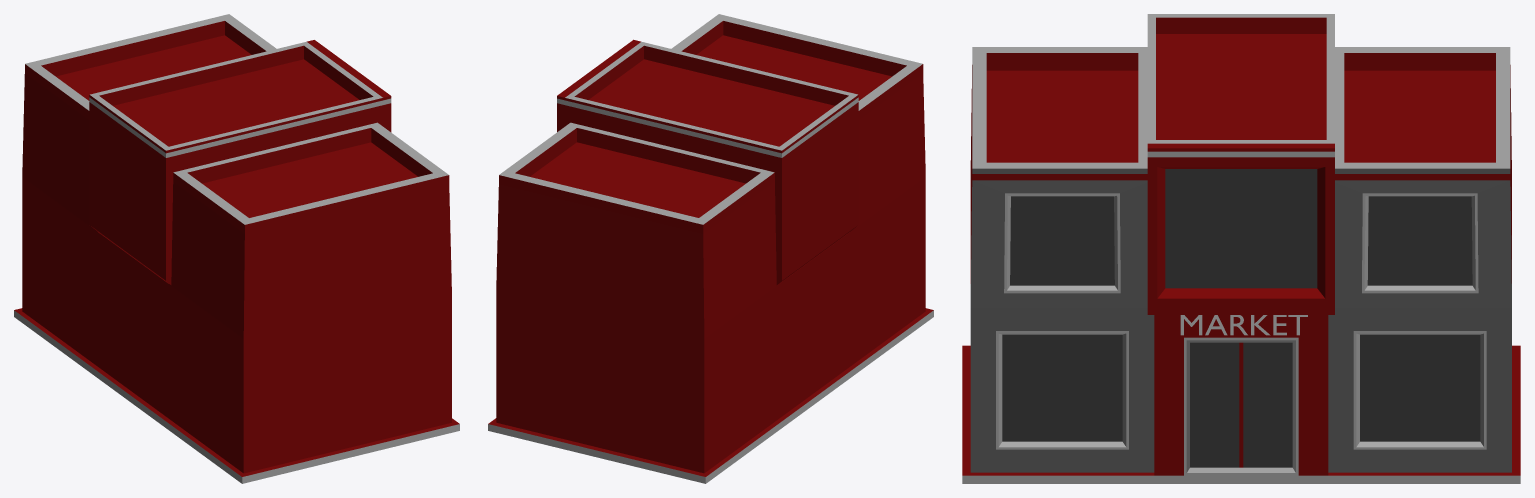
File: Market.001_BODY.002.glb
3 renders of one model, left to right at view 1: azimuth 30°, elevation 25°; view 2: azimuth 150°, elevation 25°; view 3: azimuth 270°, elevation 25°, orthographic. The views are drawn at different scales.
Visible parts, largest first — view 1: Market.001_BODY.002_0; view 2: Market.001_BODY.002_0; view 3: Market.001_BODY.002_0.
Part boxes in pixels (x1,y1,x2,y2): Market.001_BODY.002_0: (14, 14, 459, 483); Market.001_BODY.002_0: (488, 14, 933, 483); Market.001_BODY.002_0: (962, 14, 1520, 483).
Bounding box in the file's own units: 2.65 × 3.13 × 4.66.
1 material, 1 textured.
